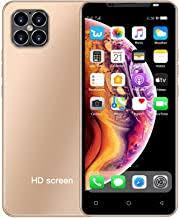Smartphone: (80, 3, 173, 217), (3, 0, 87, 215)
